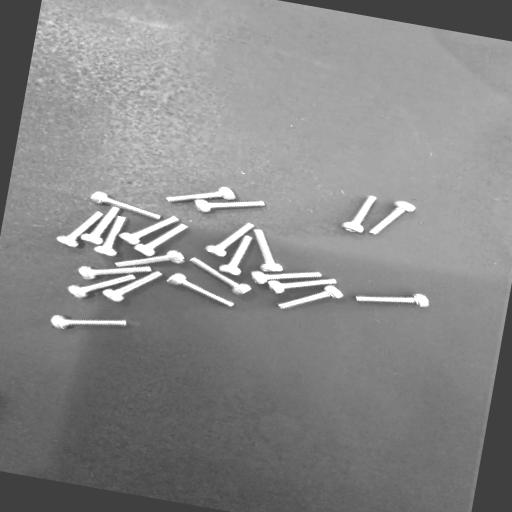Bolt: (167, 273, 234, 307), (190, 258, 251, 295), (91, 192, 161, 220), (103, 271, 162, 302), (134, 224, 188, 256), (205, 223, 254, 257), (120, 217, 179, 245), (56, 212, 102, 247), (68, 275, 135, 298), (369, 201, 415, 234), (278, 286, 343, 309), (81, 207, 119, 245), (219, 235, 251, 276), (341, 196, 376, 233), (94, 216, 126, 256), (254, 230, 283, 272), (115, 250, 184, 267), (51, 315, 126, 329), (166, 187, 235, 202), (78, 266, 151, 280), (268, 279, 336, 294), (356, 294, 429, 307), (251, 271, 321, 284), (195, 200, 265, 212)
